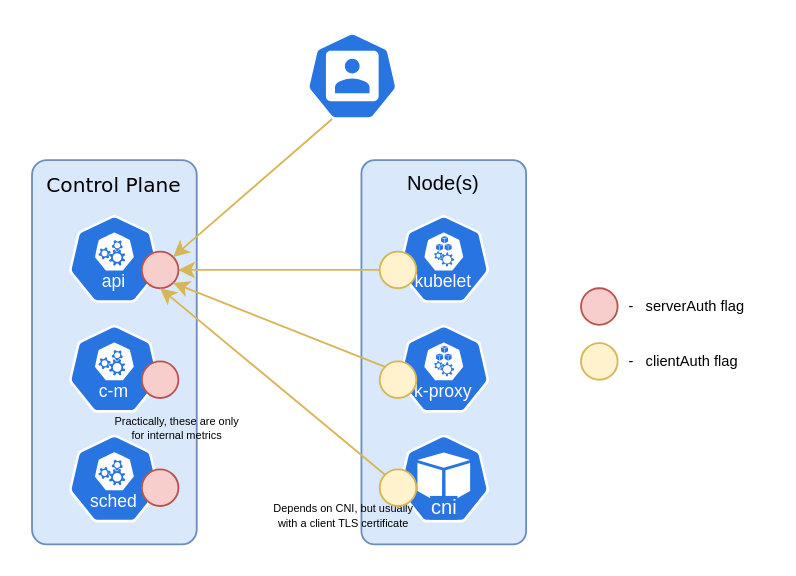
Image size: 796x576. Some labels were removed from this diagram. The shapes that lost their labels are listed below. From the top down, each one's centre as x and y in pixels, then its label:
the point at 351,75: kubeconfig
the point at 269,117: Can with with TLS client certificate, with OAuth, or with both
